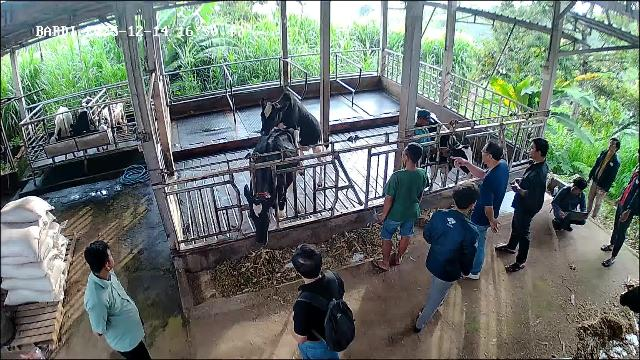mounting: (257, 90, 327, 185)
